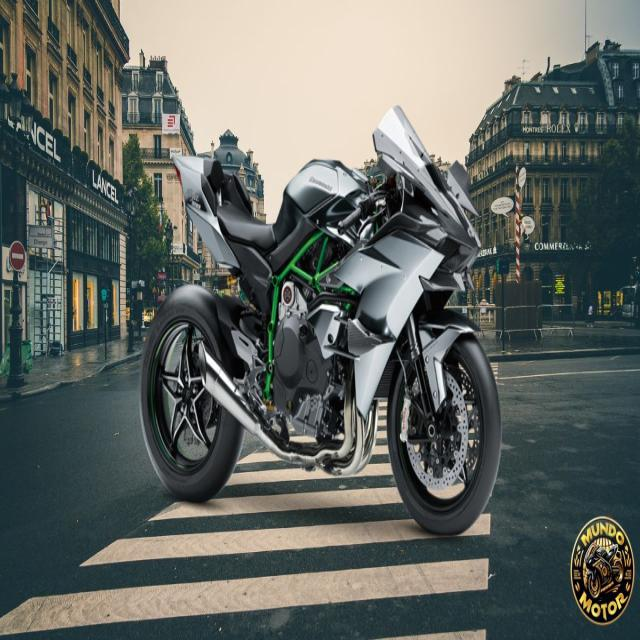MOTORCYCLE: (136, 106, 499, 517)
